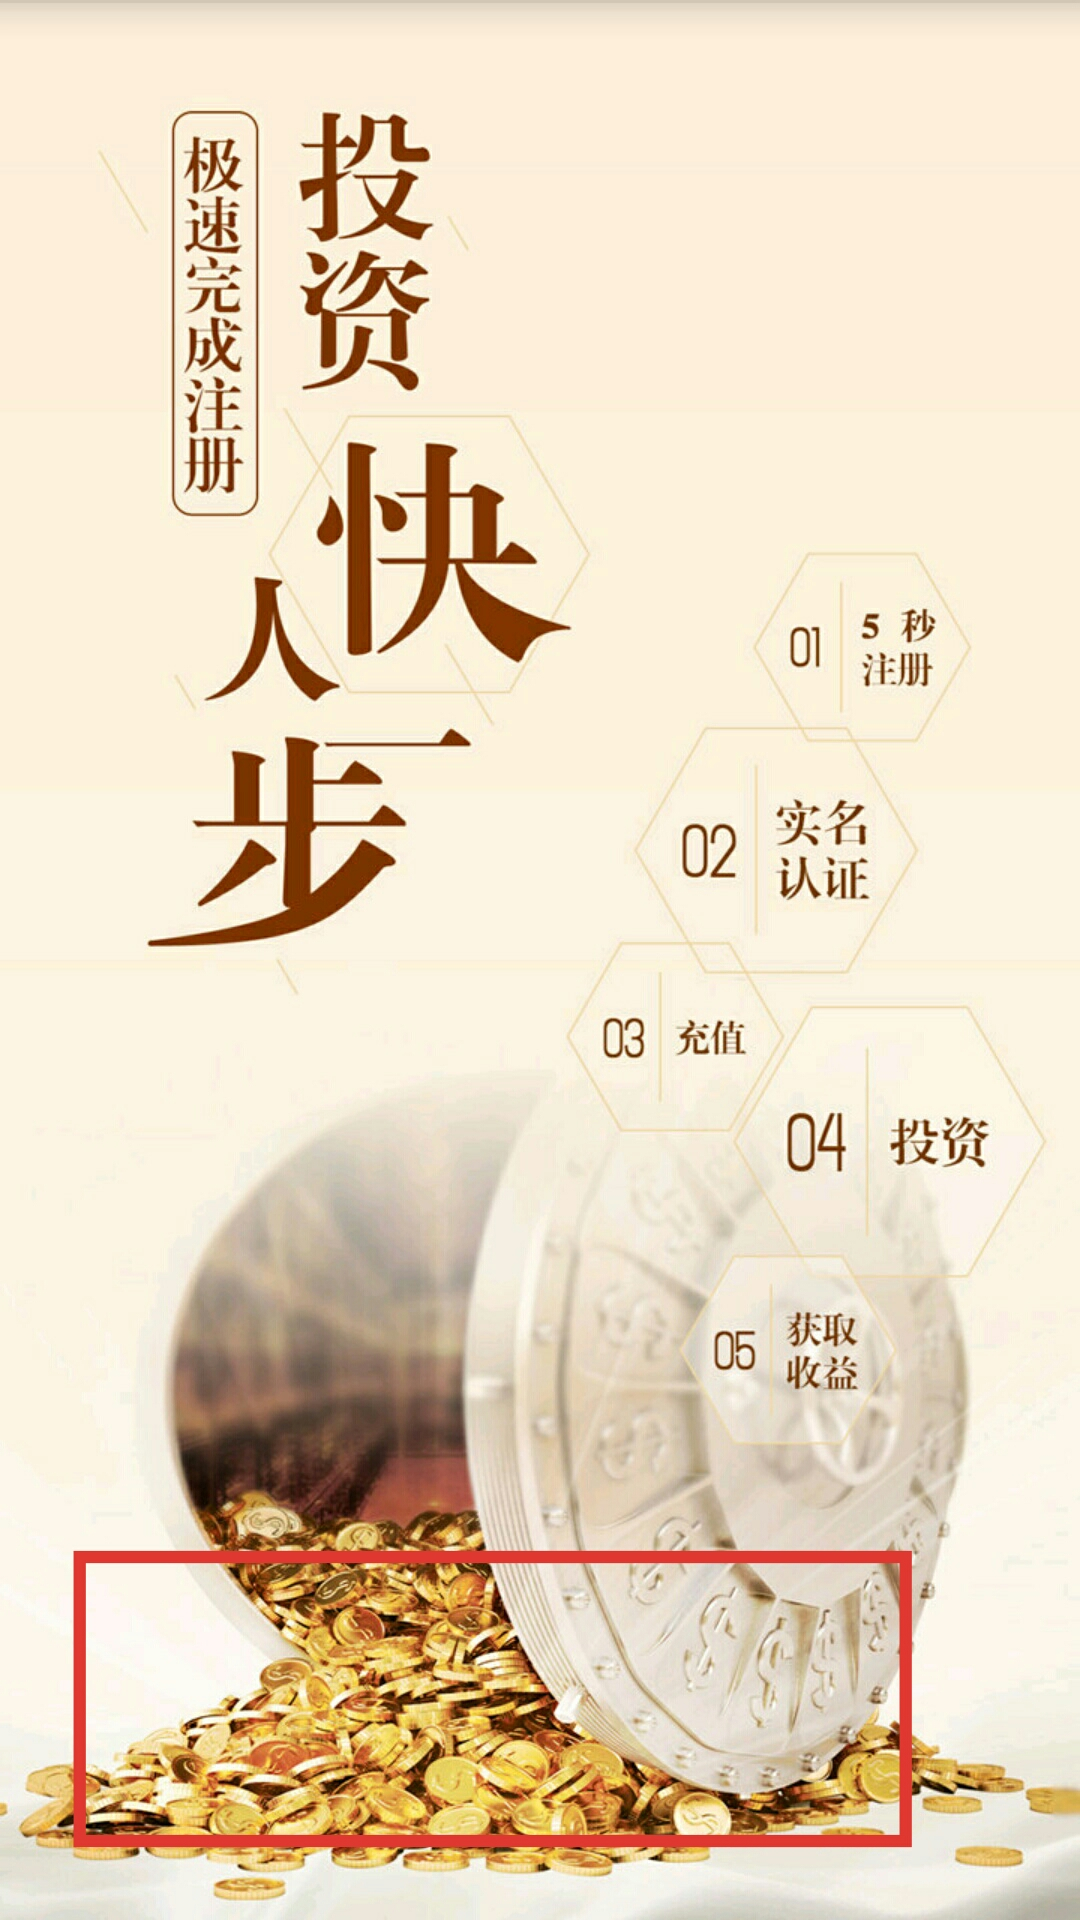imgview: (7, 11, 1076, 1920)
